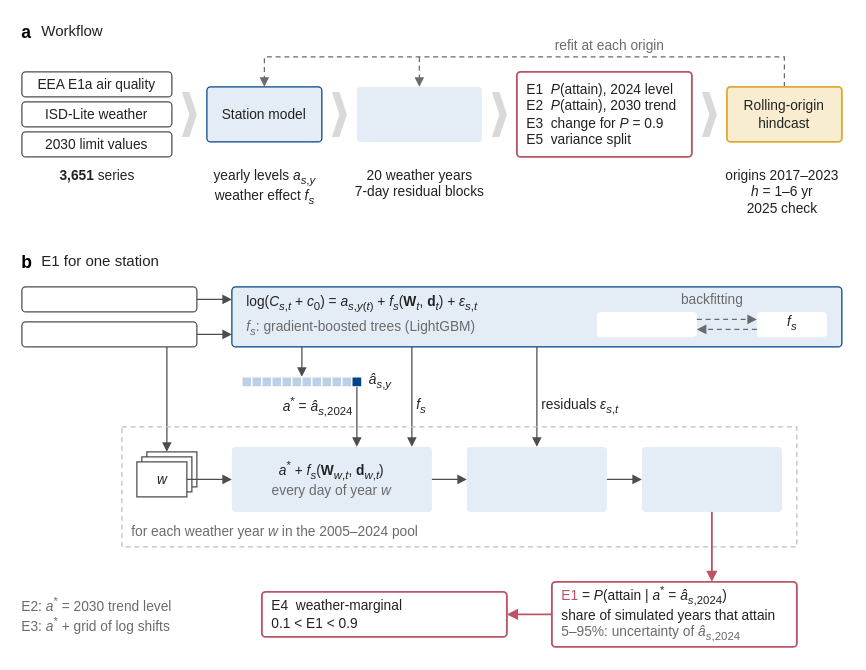
The diagram is 866 pixels wide and 670 high, and some of its shapes have lost their labels. The box of each missing label's shape, as (x1, y1, x2, y2) in pixels:
+ 7-day residual blocks same season, tercile: (466, 446, 606, 511)
Daily concentration C s , t: (21, 286, 197, 312)
levels a s , y: (596, 311, 696, 336)
Simulated year annual mean, days > daily limit: (641, 446, 781, 511)
Weather and residual resampling: (356, 86, 481, 141)
Weather W t , calendar d t: (21, 321, 197, 347)
